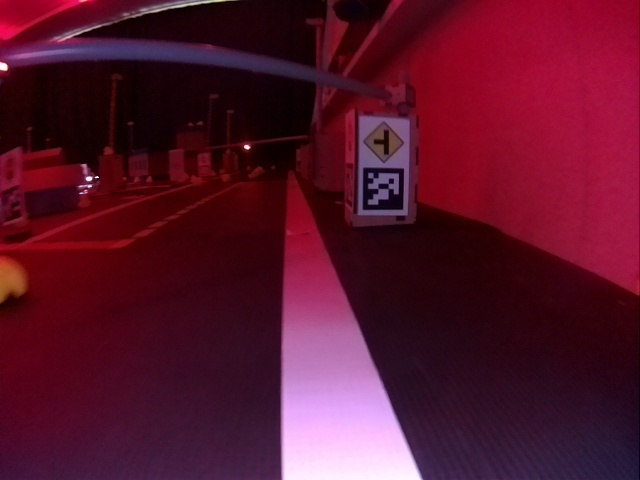Duckie: (1, 256, 28, 309)
Intersection sign: (365, 122, 402, 156)
QR code: (363, 169, 401, 210), (1, 185, 22, 224)
